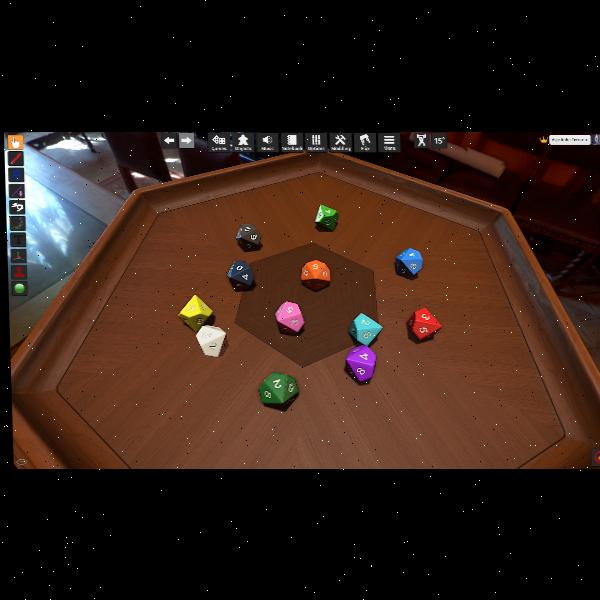d10: (258, 372, 299, 408), (178, 296, 214, 332), (345, 345, 377, 381), (347, 312, 380, 346), (410, 306, 443, 340), (196, 324, 228, 356), (276, 299, 305, 332), (300, 258, 329, 290), (226, 260, 254, 292), (398, 247, 424, 279), (235, 224, 261, 251), (314, 202, 338, 230)
